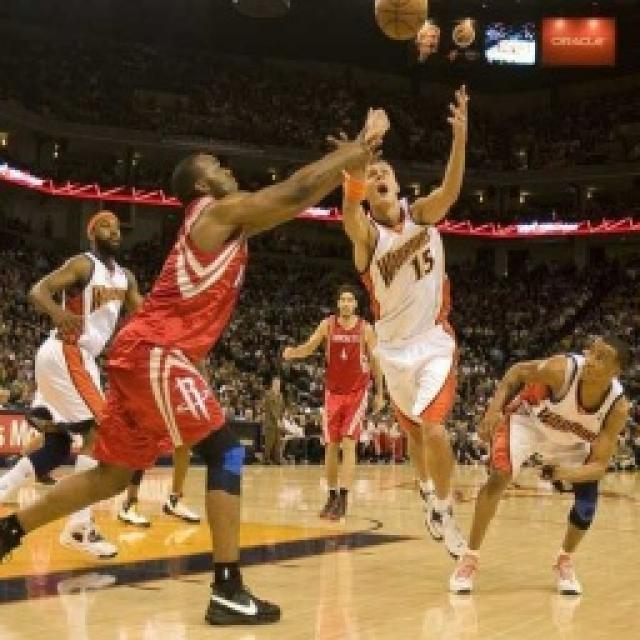rim: (367, 0, 434, 42)
